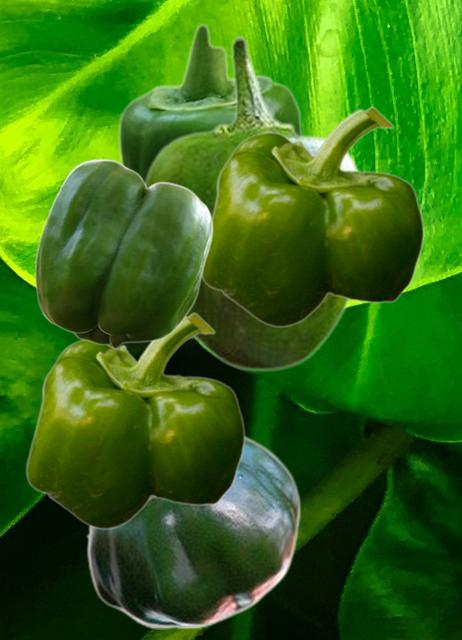bell_pepper: (143, 35, 361, 372), (202, 106, 423, 327), (25, 312, 244, 529), (85, 433, 300, 628), (34, 158, 212, 348), (117, 22, 303, 175)
